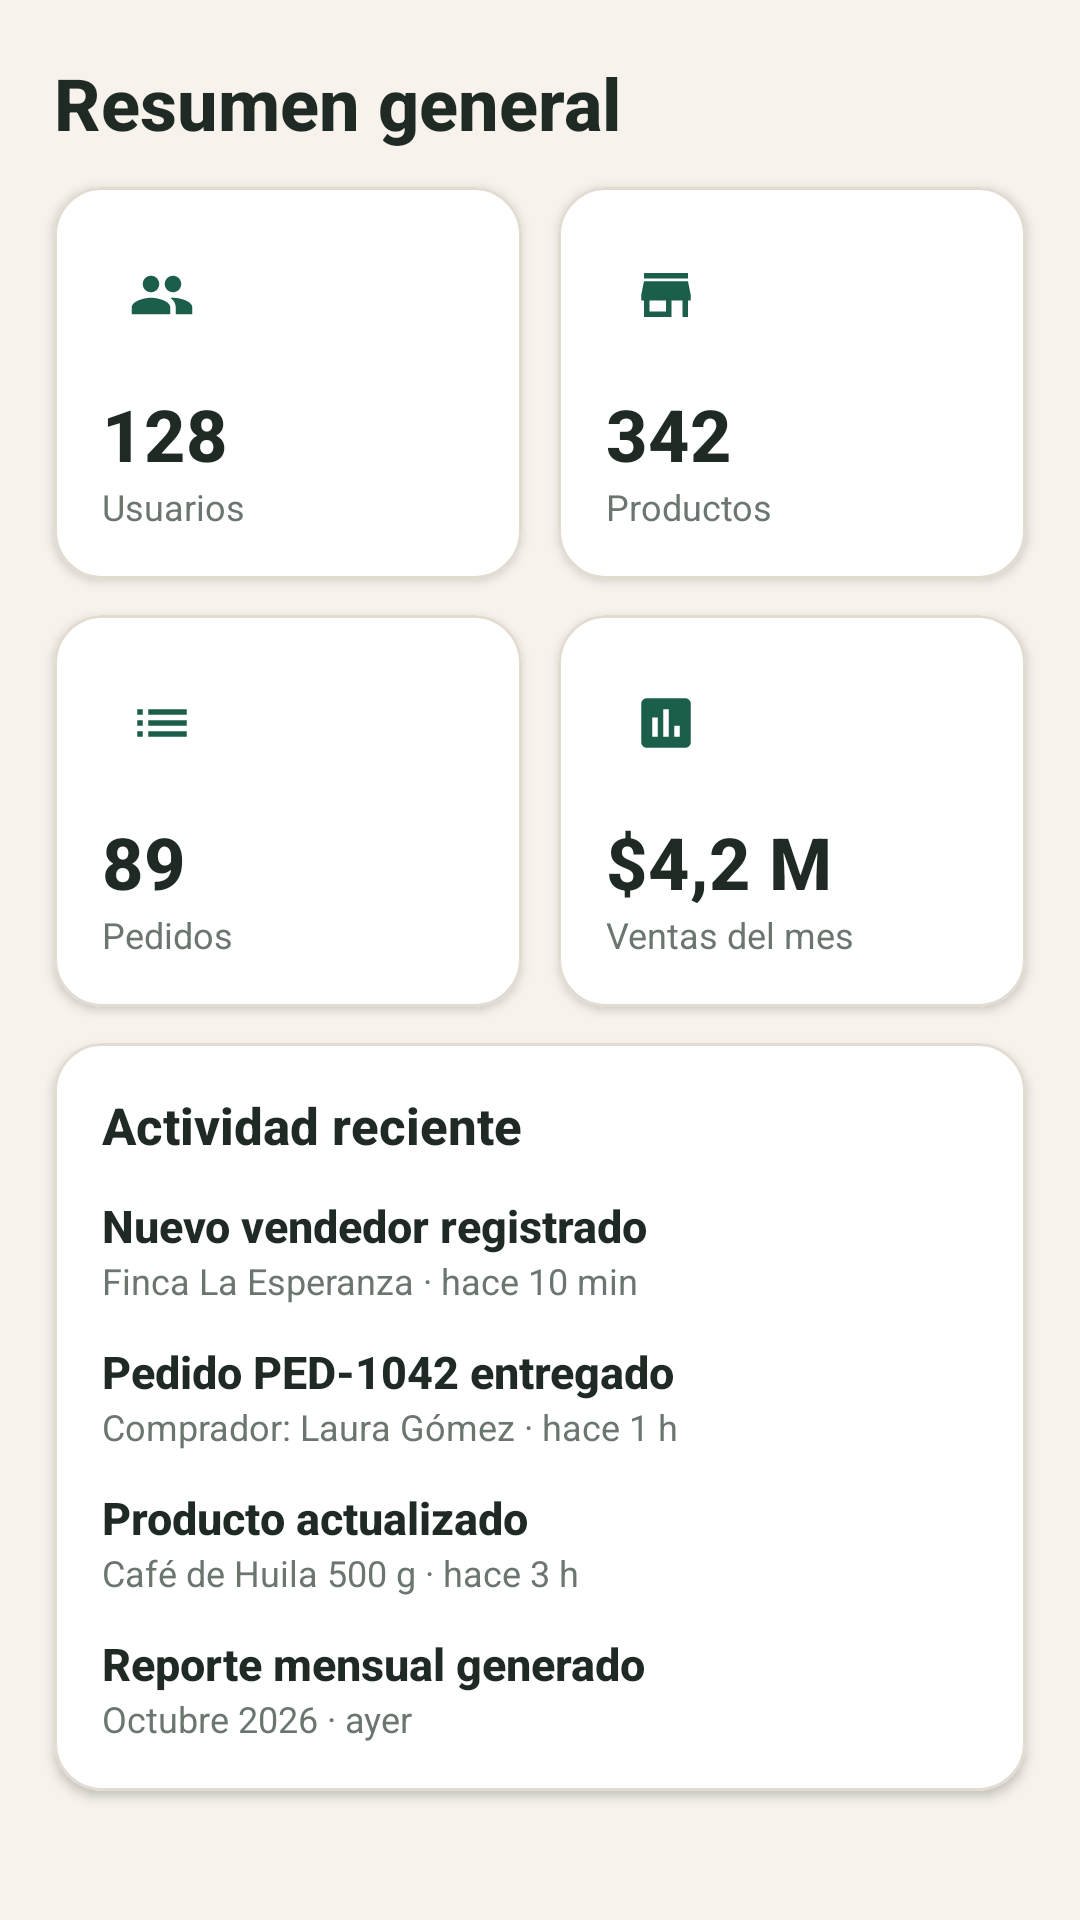

Icon bounding boxes for this 1080px x 1920px phone screenshot, format Rect(x1, y1, x2, y2):
list: Rect(137, 709, 187, 737)
people: Rect(131, 275, 193, 315)
report: Rect(641, 698, 691, 748)
store: Rect(641, 273, 691, 317)
